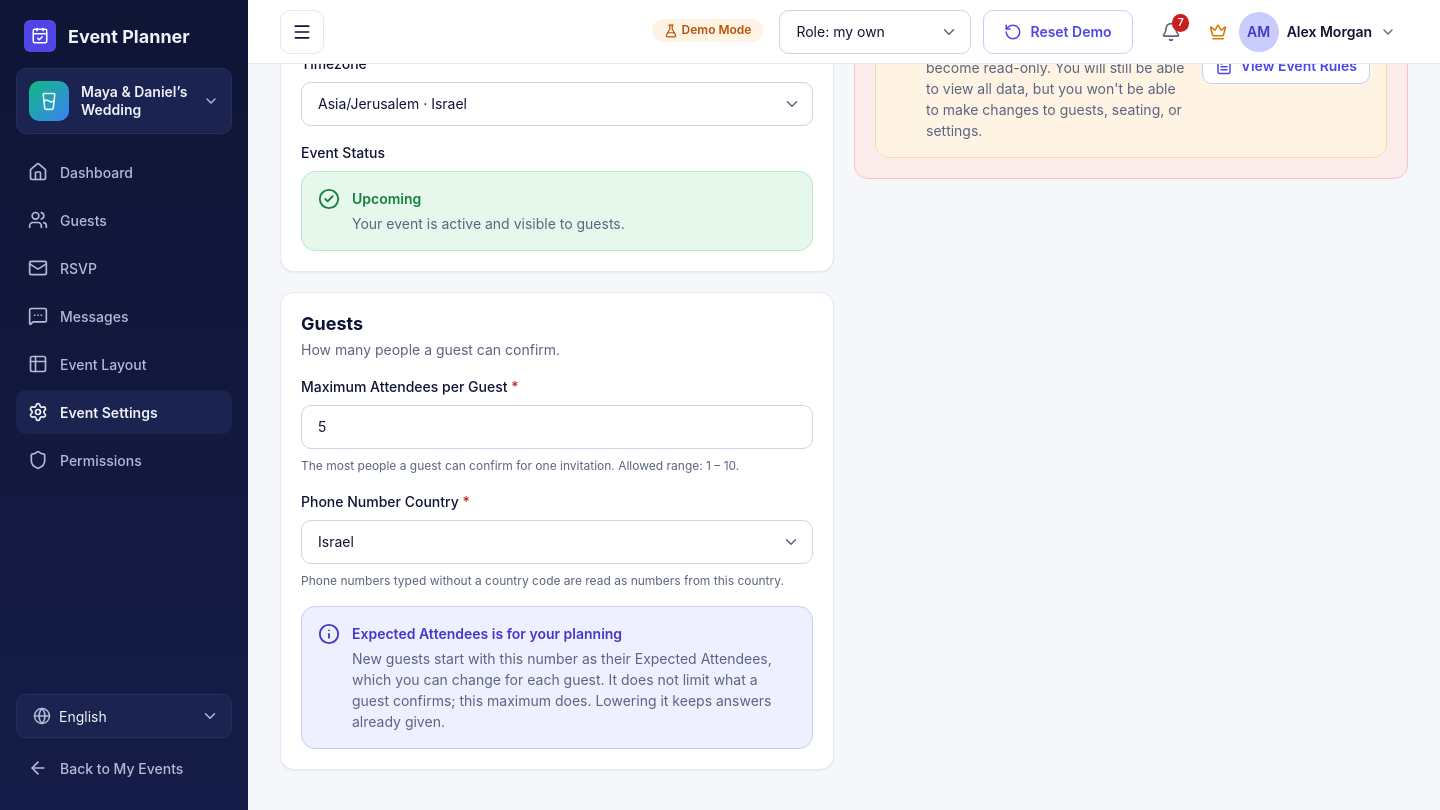
Test: Event Settings › refuses Maximum Attendees per Guest "0" and saves nothing
(page scrolled)
Replace the text in the number field labelled "Maximum Attendees per Guest *" with "0" at [557, 427], box [301,405,813,449]
(page scrolled)
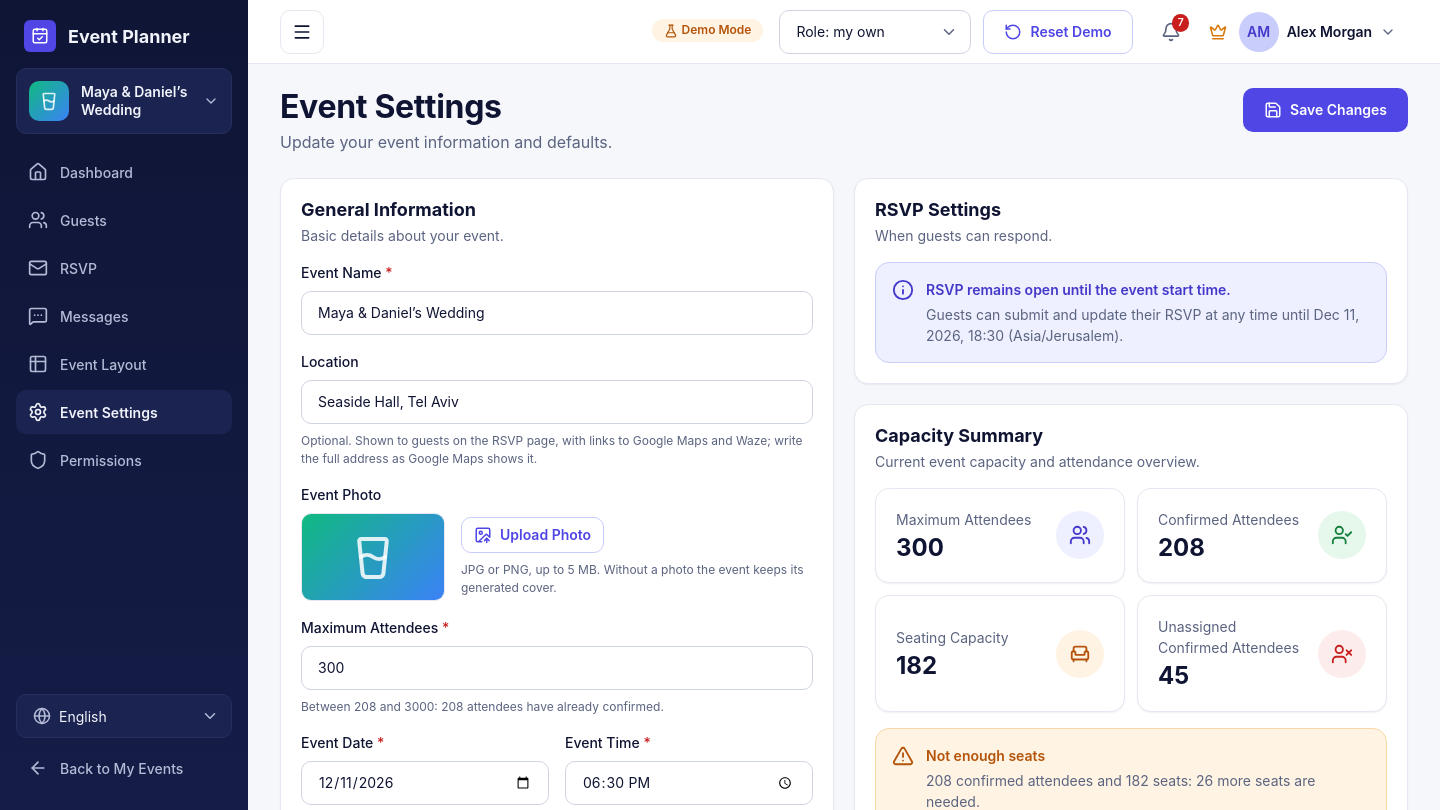
Click the button "Save Changes" at [1326, 110], box [1243,88,1408,132]
(page scrolled)
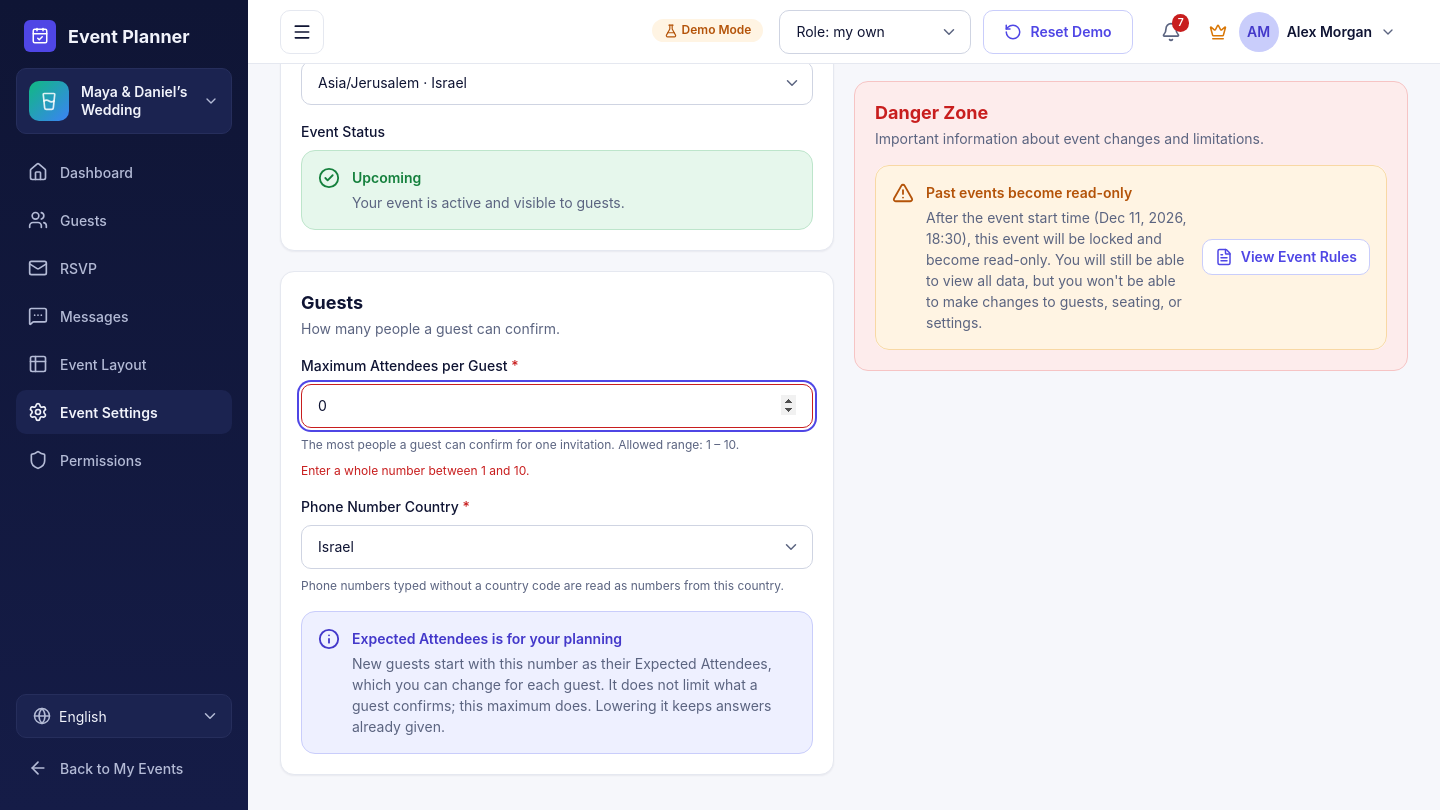
Result: the text "Enter a whole number between 1 and 10." is shown at [301,463,529,478]
